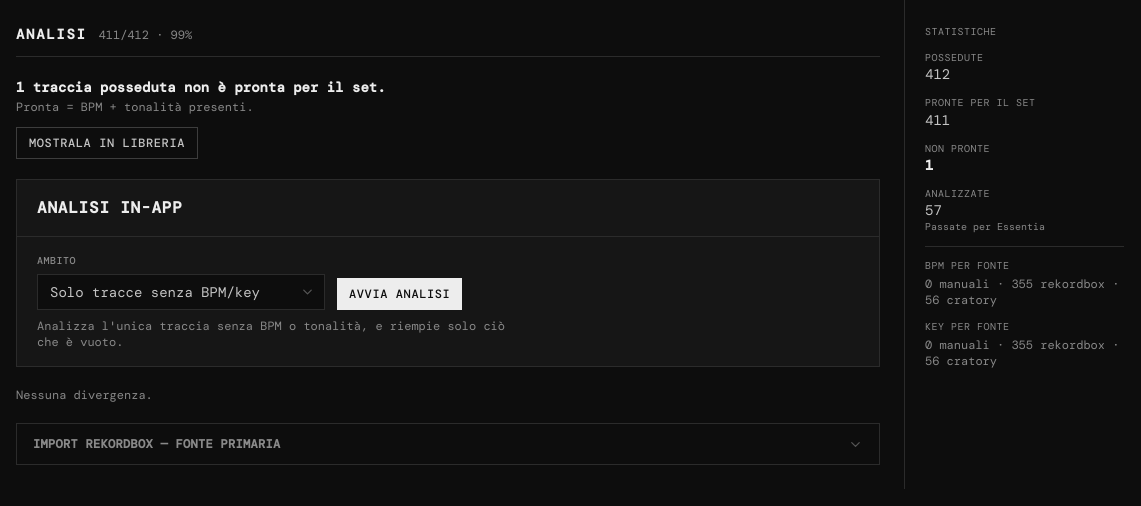
Test: pagina Analisi › la descrizione dell'analisi segue lo scope: le due voci non fanno la stessa cosa
Check: the text "Analizza l'unica traccia senza BPM o tonalità" is shown, box [37,318,505,350]
Check: the text "rianalizza tutte le 412" is not shown
Select "Tutte le tracce possedute" in the dropdown at coordinates (181, 292), box [37,274,325,310]
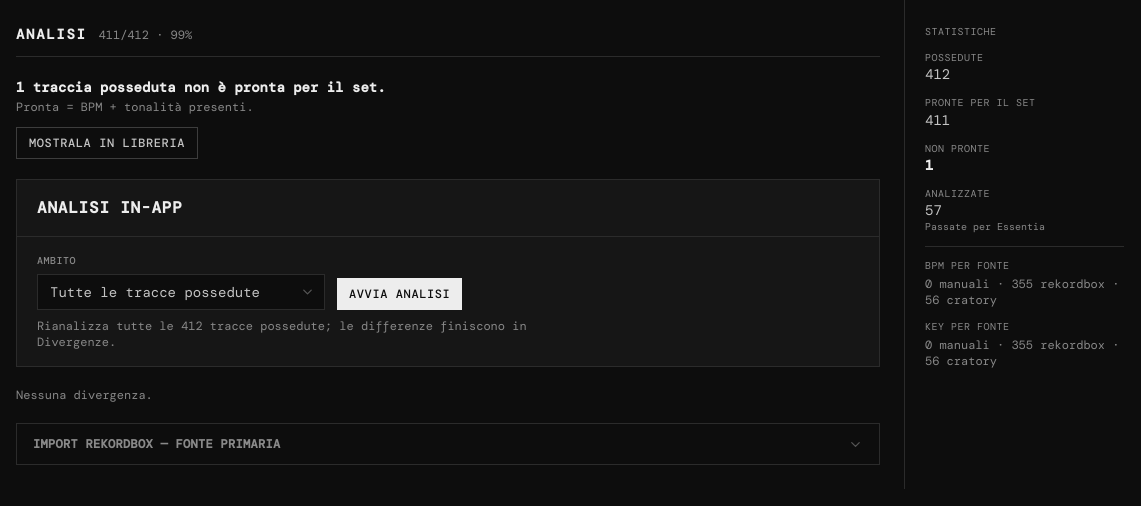
Check: the text "Rianalizza tutte le 412 tracce possedute" is shown, box [37,318,527,350]
Check: the text "Analizza l'unica traccia" is gone
